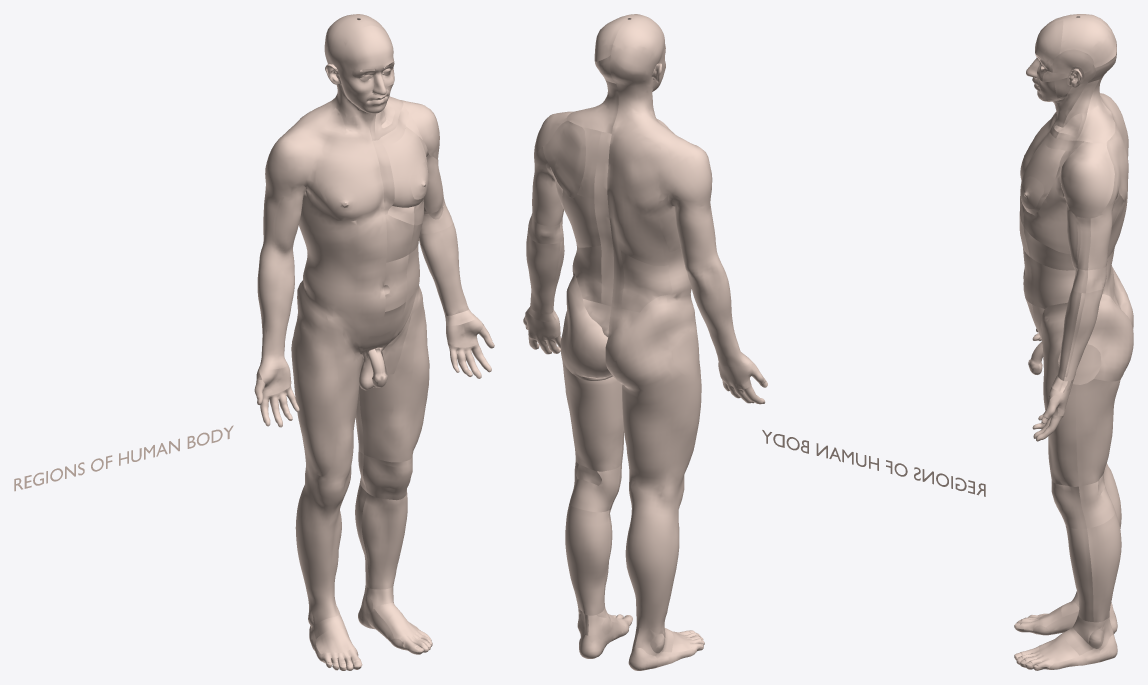
The model's file is body-skin.glb.
The picture shows the model from 3 angles, left to right: view 1: azimuth 30°, elevation 25°; view 2: azimuth 150°, elevation 25°; view 3: azimuth 270°, elevation 25°; orthographic projection.
Visible parts, largest first — view 1: Z_skin; view 2: Z_skin; view 3: Z_skin.
Boxes of the visible parts, left/top/right/bottom form: Z_skin: left=14, top=14, right=494, bottom=670; Z_skin: left=523, top=14, right=985, bottom=670; Z_skin: left=1014, top=14, right=1133, bottom=670.
Size of the model in its own units: 1.34 by 1.71 by 0.2939.
